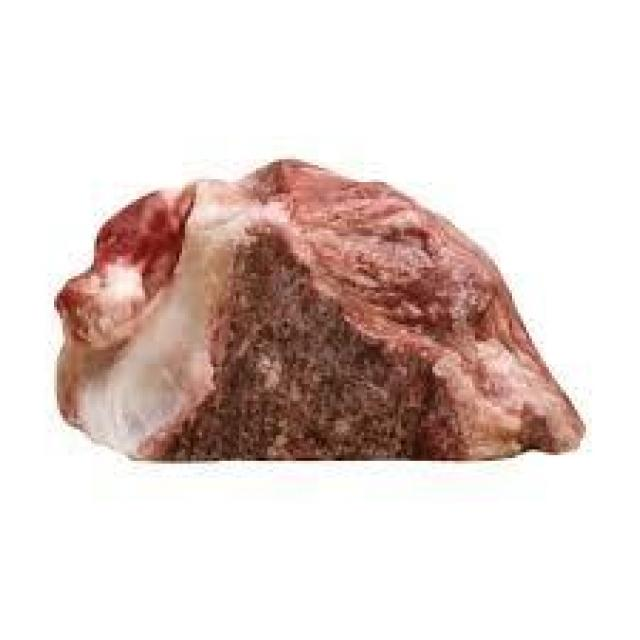beef: (24, 130, 603, 521)
